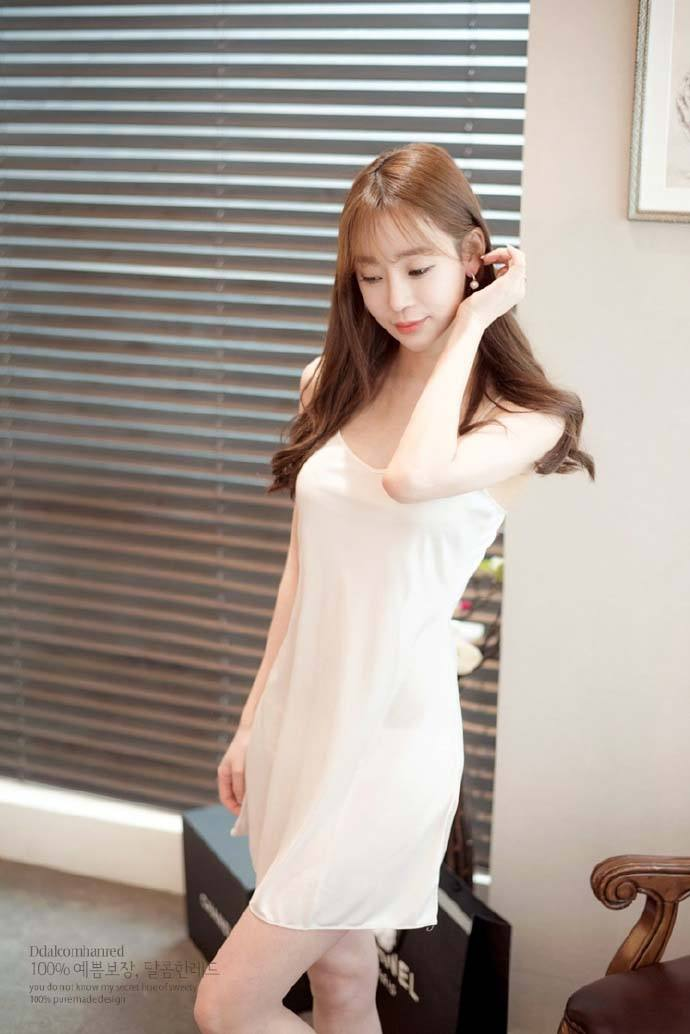person: (200, 160, 615, 1008)
